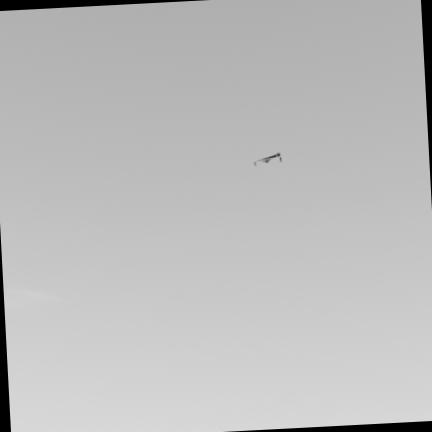Shahed: (254, 153, 281, 166)
